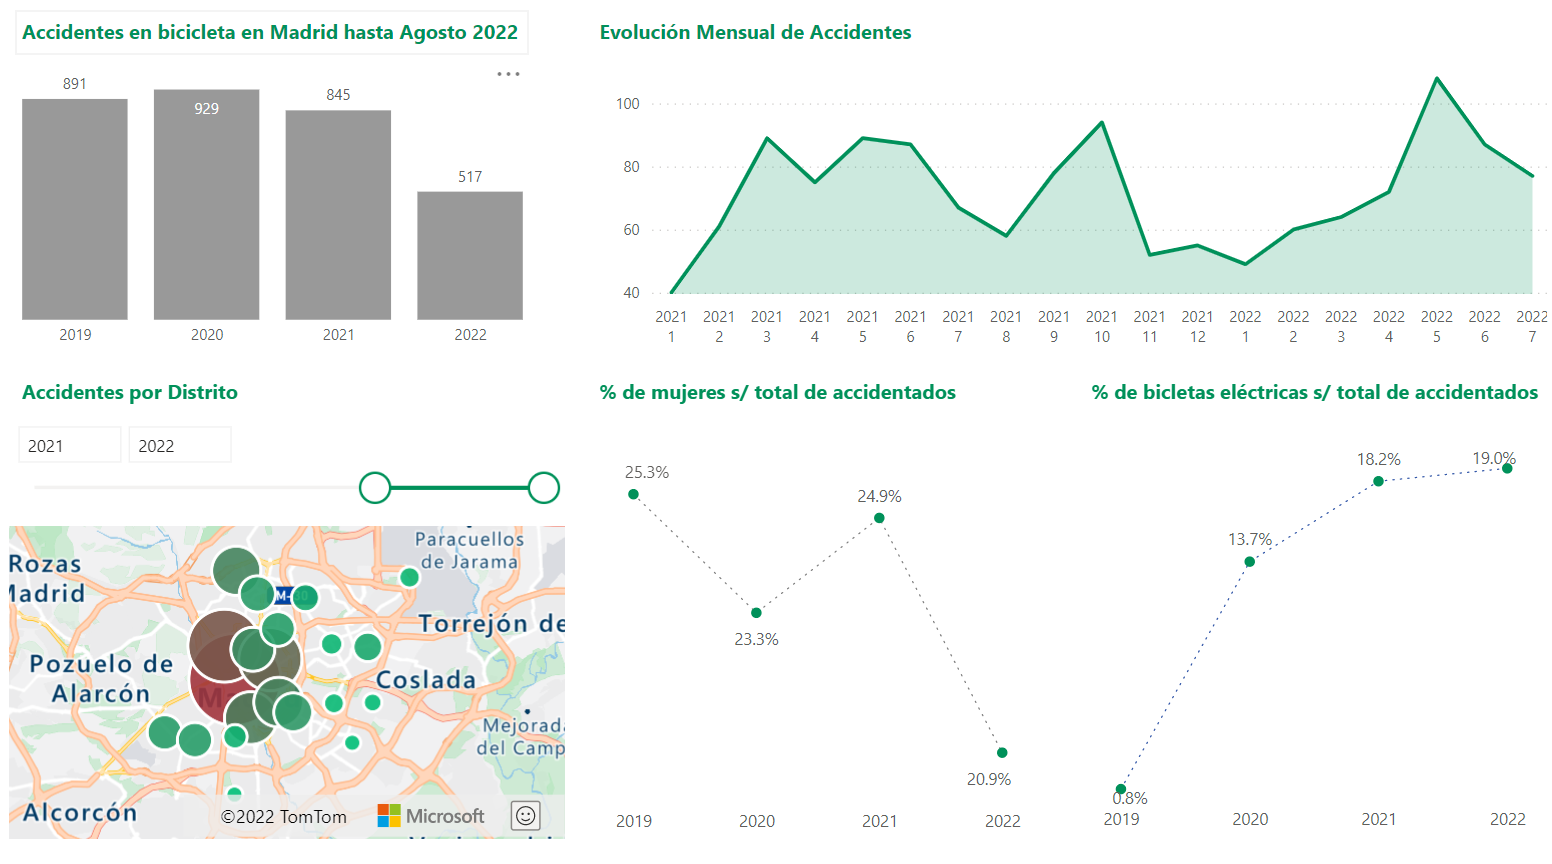

The page's visual inventory and layout, read from the dashboard file:
{"tool":"powerbi","page":{"name":"Dashboard","canvas":[1280,720],"ordinal":0},"visuals":[{"type":"azureMap","fields":{"Size":["Sum(CONSO.Accidentes)"],"Category":["DIM_Distritos.Dirección"]},"box":[14.4,429.1,454.2,260.1],"z":0},{"type":"slicer","fields":{"Values":["Fecha.Año"]},"box":[14.4,345.2,454.2,73.1],"z":1000},{"type":"lineChart","fields":{"Y":["CONSO.% Mujeres"],"Category":["Fecha.Año"]},"box":[499,359.5,334.7,330.1],"z":2000},{"type":"lineChart","fields":{"Category":["Fecha.Año"],"Y":["CONSO.% Eléctricas"]},"box":[887.9,359.5,348.7,328.5],"z":3000},{"type":"areaChart","fields":{"Y":["Sum(CONSO.Accidentes)"],"Category":["Fecha.Date Hierarchy.Año","Fecha.Date Hierarchy.Mes"]},"box":[499,57.3,760.9,241.7],"z":4000},{"type":"textbox","box":[25.2,310.4,409.9,34.8],"z":5000},{"type":"textbox","box":[486.6,22.8,409.9,34.8],"z":6000},{"type":"textbox","box":[486.6,309.9,409.1,34.1],"z":7000},{"type":"textbox","box":[880.2,309.9,399.8,34.1],"z":8000},{"type":"columnChart","fields":{"Category":["Fecha.Año"],"Y":["Sum(CONSO.Accidentes)"]},"box":[25,57,410,242],"z":9000},{"type":"textbox","box":[24.8,22.8,410,34.7],"z":10000}]}

Visuals, with their boxes in screenshot pixels (x1, y1, x2, y2), scaled from the page's 1280x720 canvas onto the 1552x864 screenshot:
azureMap - Sum(CONSO.Accidentes) x DIM_Distritos.Dirección: 17 515 568 827
slicer - Fecha.Año: 17 414 568 502
lineChart - CONSO.% Mujeres x Fecha.Año: 605 431 1011 828
lineChart - Fecha.Año x CONSO.% Eléctricas: 1077 431 1499 826
areaChart - Sum(CONSO.Accidentes) x Fecha.Date Hierarchy.Año: 605 69 1528 359
textbox: 31 372 528 414
textbox: 590 27 1087 69
textbox: 590 372 1086 413
textbox: 1067 372 1551 413
columnChart - Fecha.Año x Sum(CONSO.Accidentes): 30 68 527 359
textbox: 30 27 527 69
